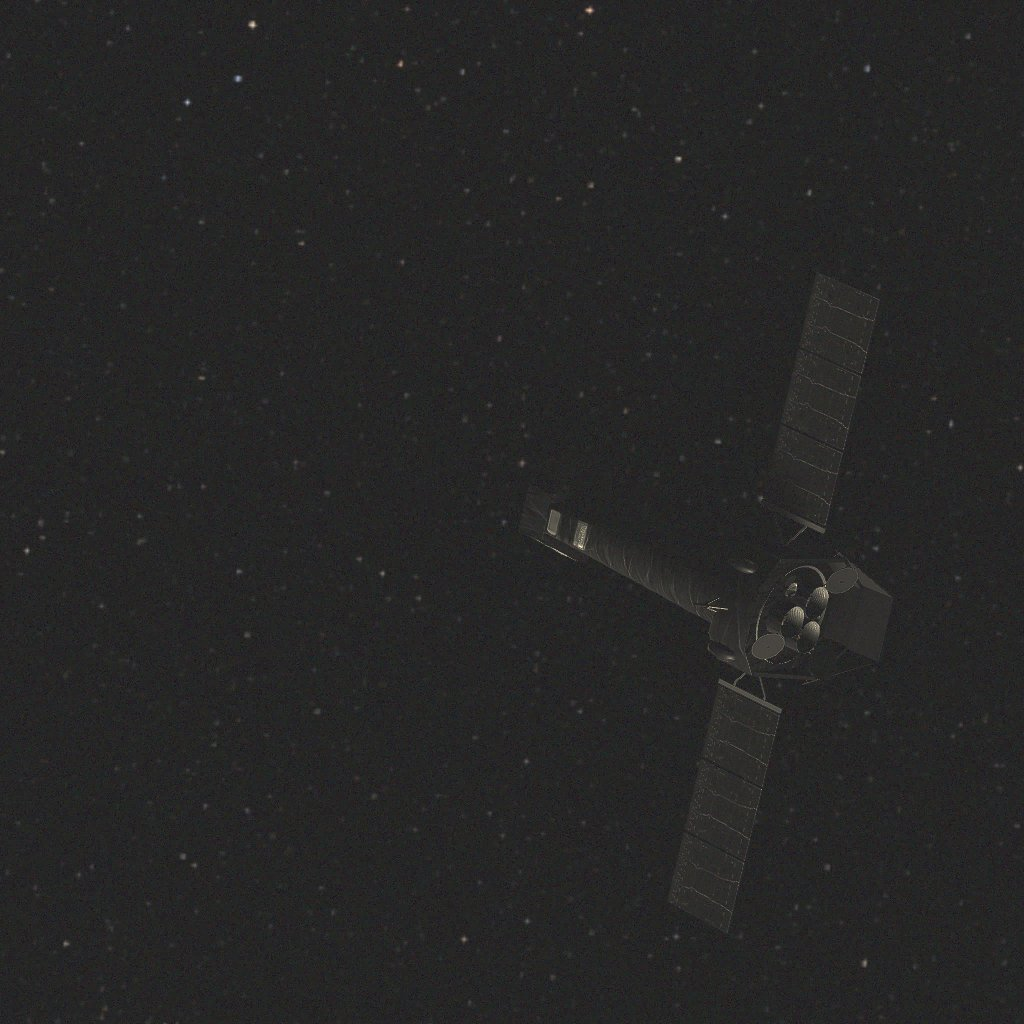xmm_newton: (519, 272, 894, 934)
